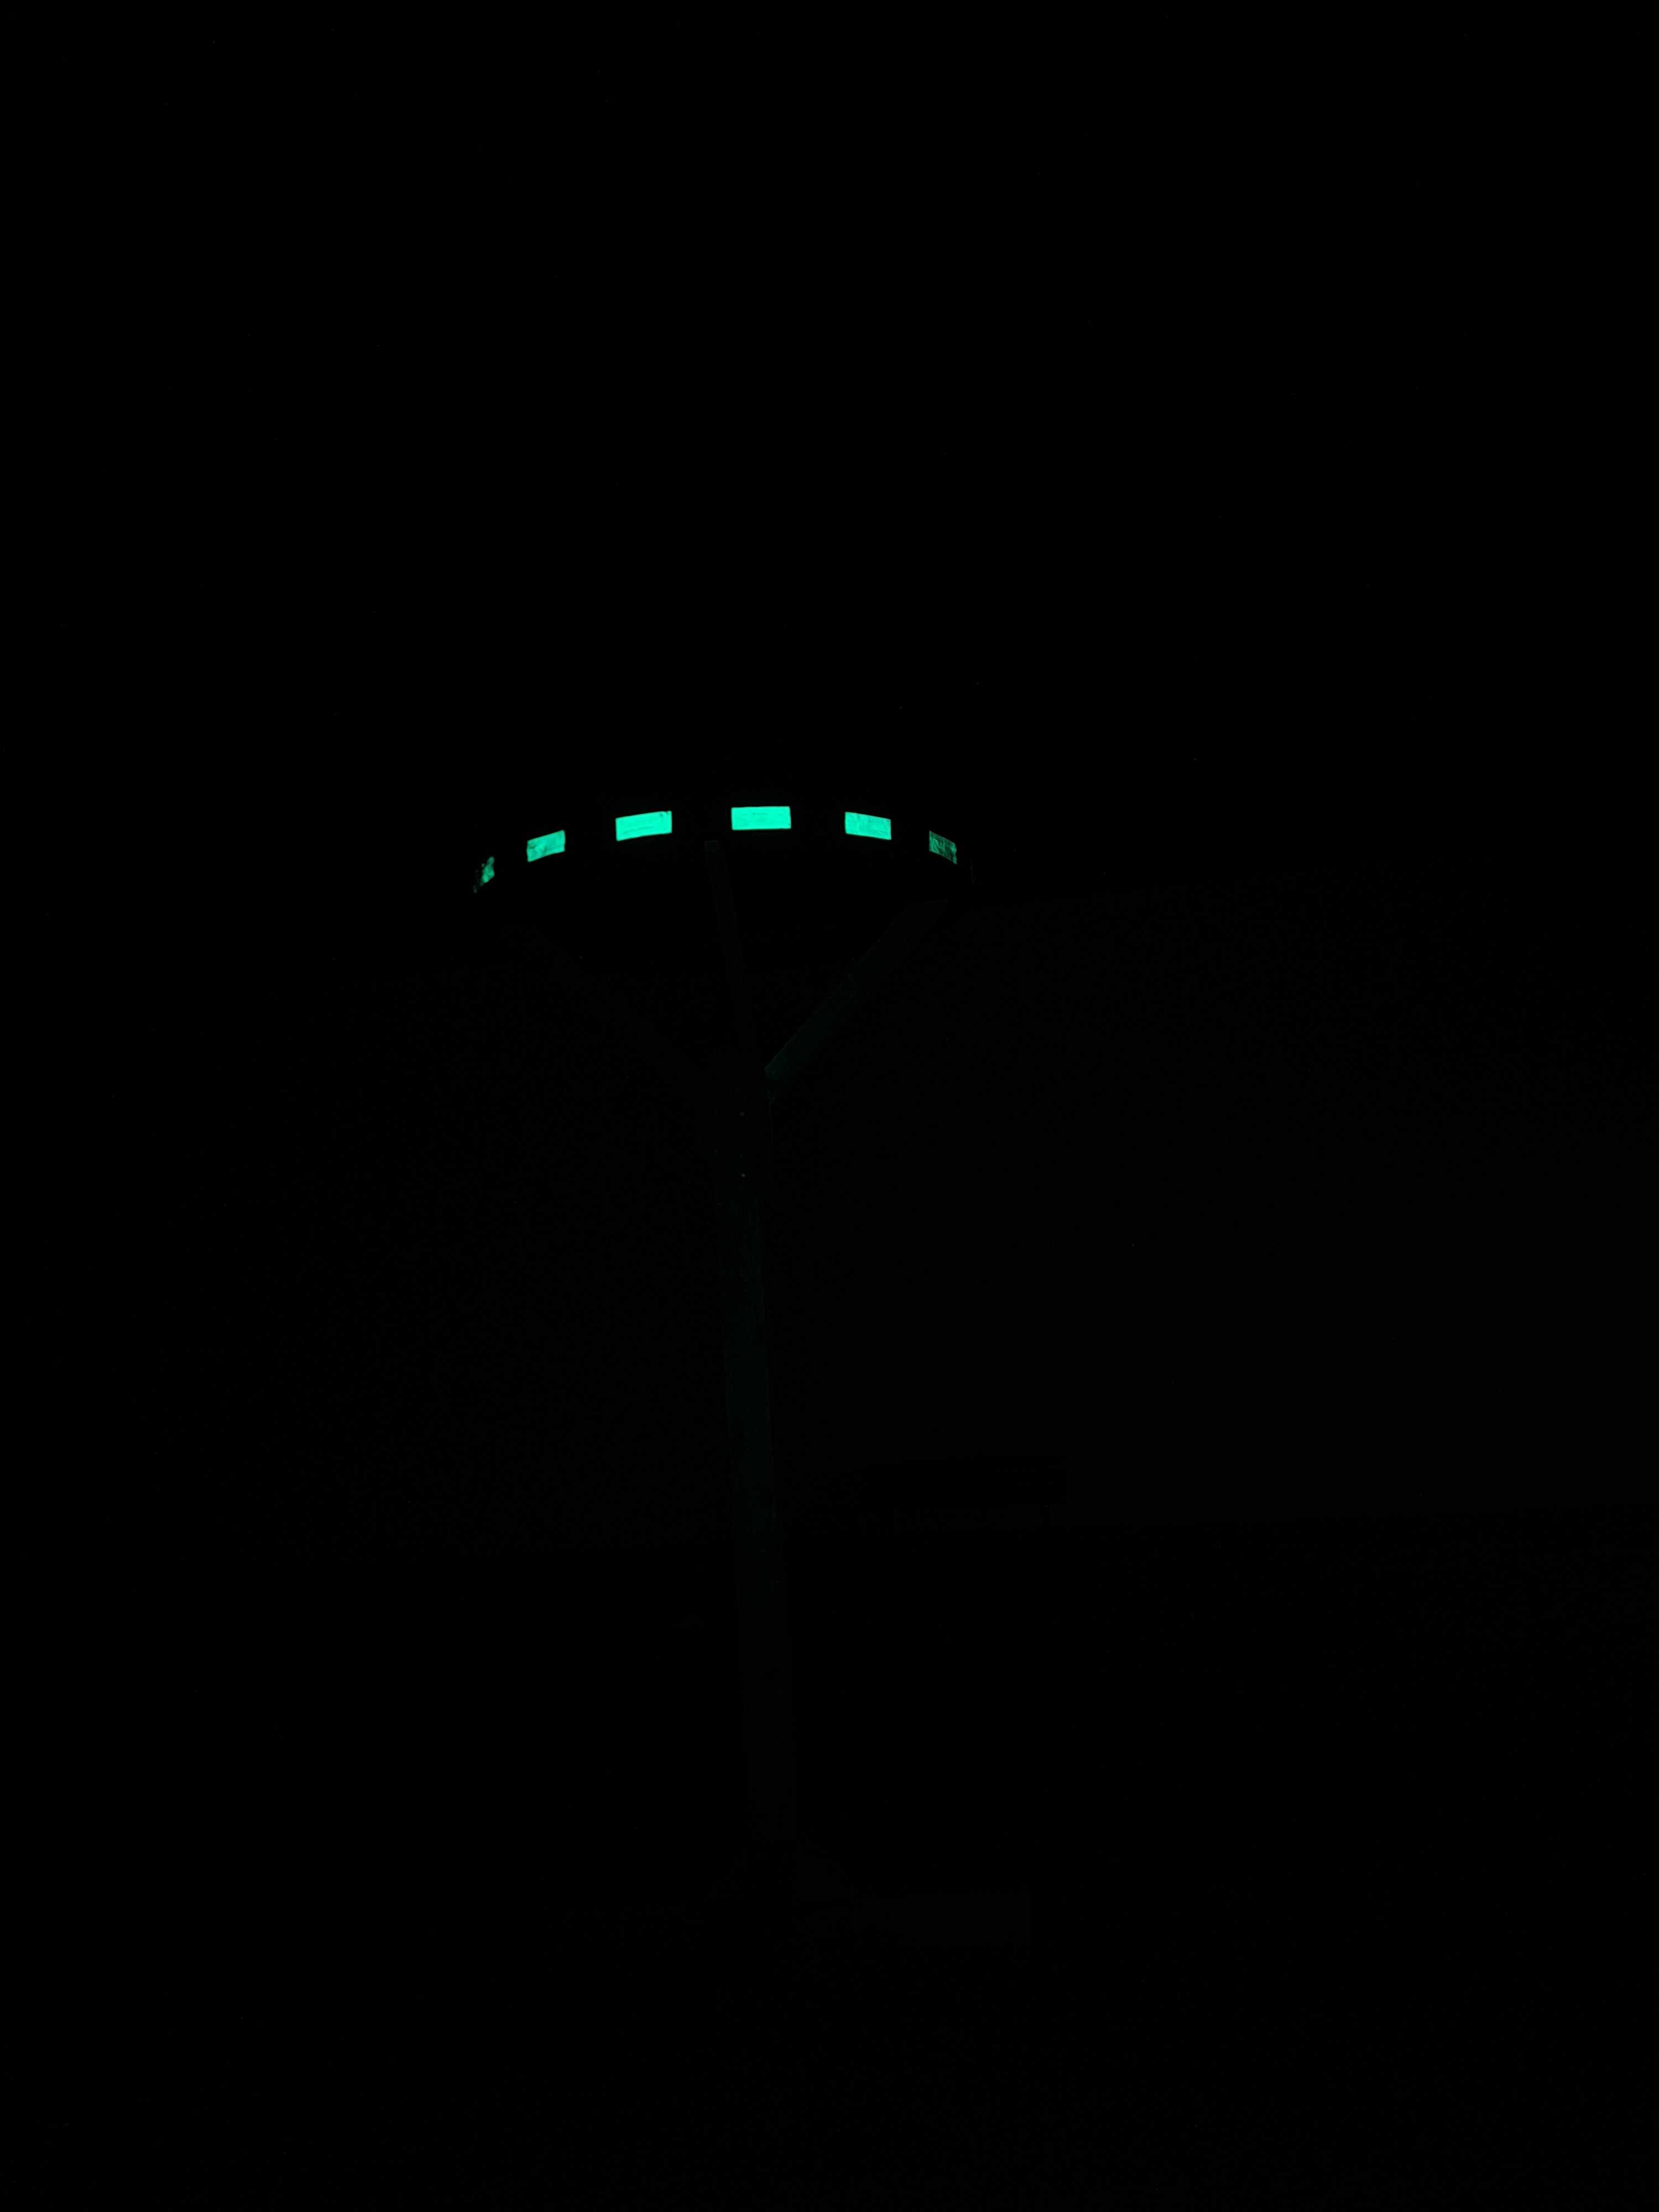hoop: (469, 786, 964, 907)
